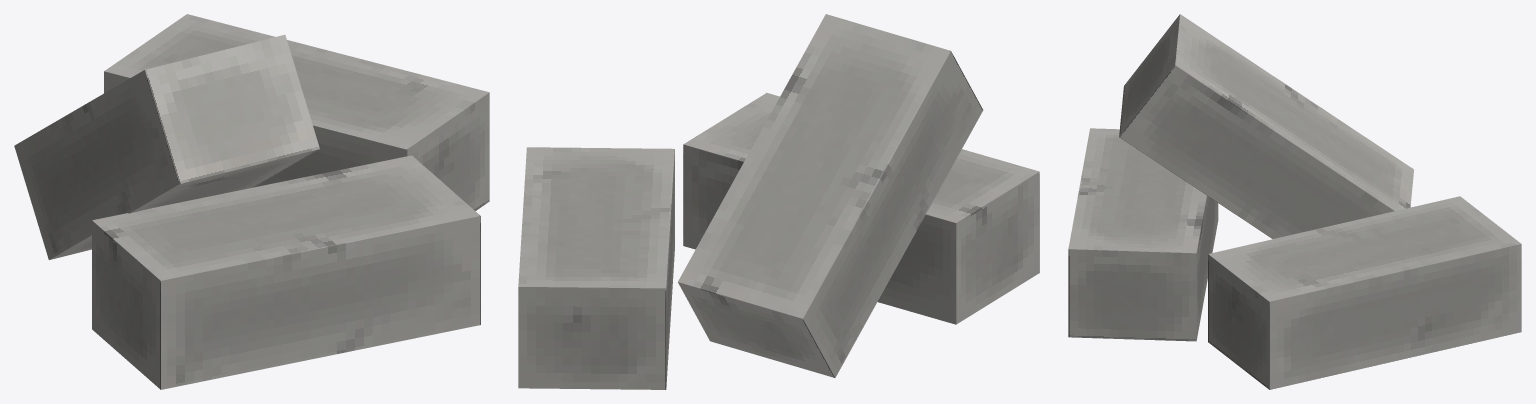
Rendered from Ruins_Bricks02_Geo.fbx.
3 renders of one model, left to right at view 1: azimuth 30°, elevation 25°; view 2: azimuth 150°, elevation 25°; view 3: azimuth 270°, elevation 25°, orthographic. The views are drawn at different scales.
Parts seen in each view (by area): view 1: Bricks02_Geo; view 2: Bricks02_Geo; view 3: Bricks02_Geo.
Part boxes in pixels (box(x1,y1,x2,y2)): Bricks02_Geo: box(14, 14, 489, 389); Bricks02_Geo: box(518, 14, 1039, 389); Bricks02_Geo: box(1068, 14, 1521, 389).
Size of the model in its own units: 57.64 by 34.85 by 63.63.
